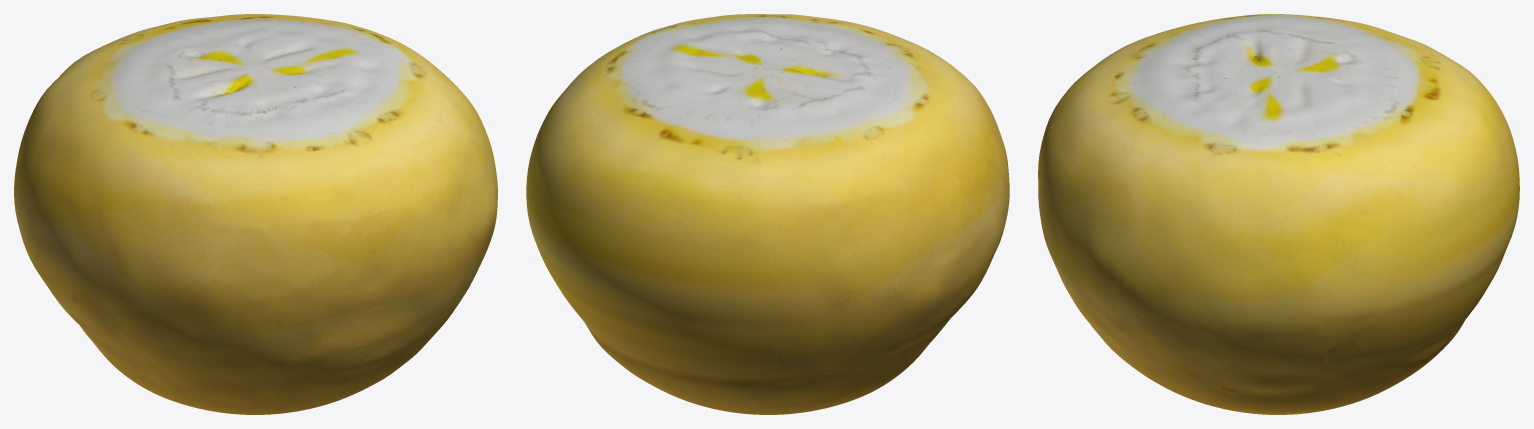
File: cut-lemon.glb
The picture shows the model from 3 angles, left to right: view 1: azimuth 30°, elevation 25°; view 2: azimuth 150°, elevation 25°; view 3: azimuth 270°, elevation 25°; orthographic projection.
Visible parts, largest first — view 1: G19 Cut lemon; view 2: G19 Cut lemon; view 3: G19 Cut lemon.
Part boxes in pixels (x1,y1,x2,y2): G19 Cut lemon: (14, 14, 497, 414); G19 Cut lemon: (526, 14, 1009, 414); G19 Cut lemon: (1038, 14, 1519, 414).
Bounding box in the file's own units: 1.85 × 1.36 × 1.86.
1 material, 1 textured.
